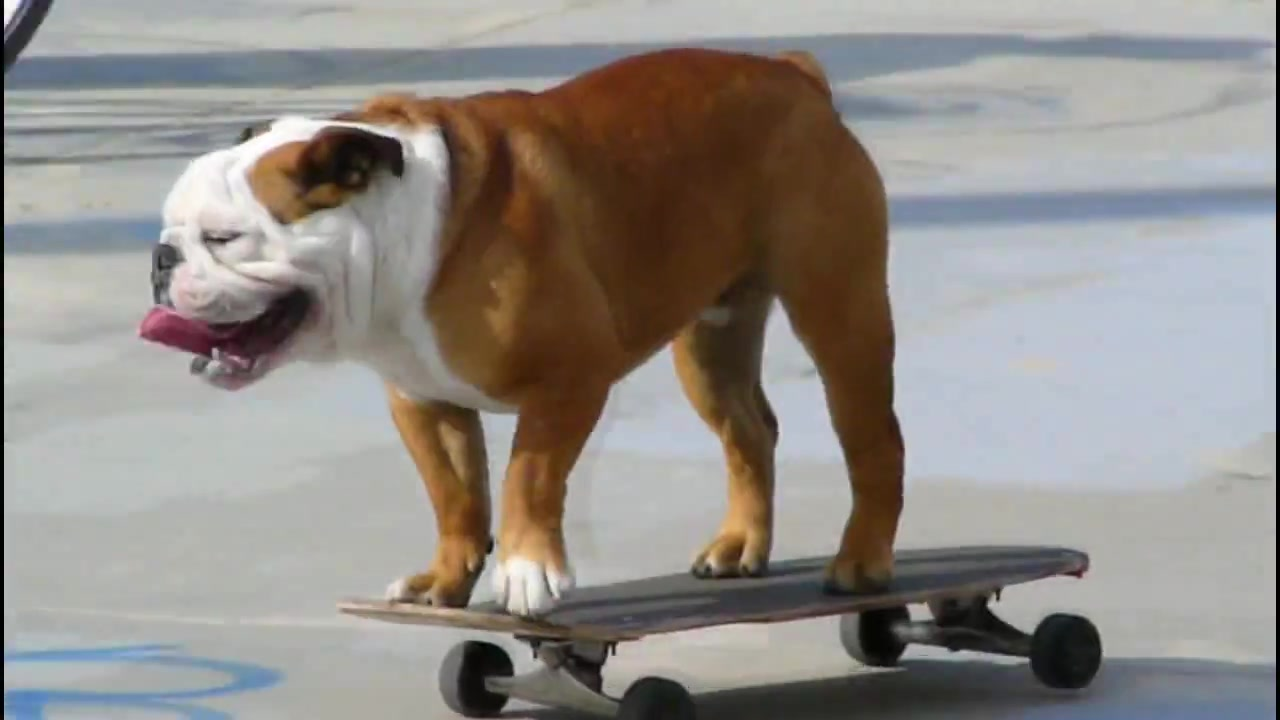dog: (138, 42, 907, 621)
